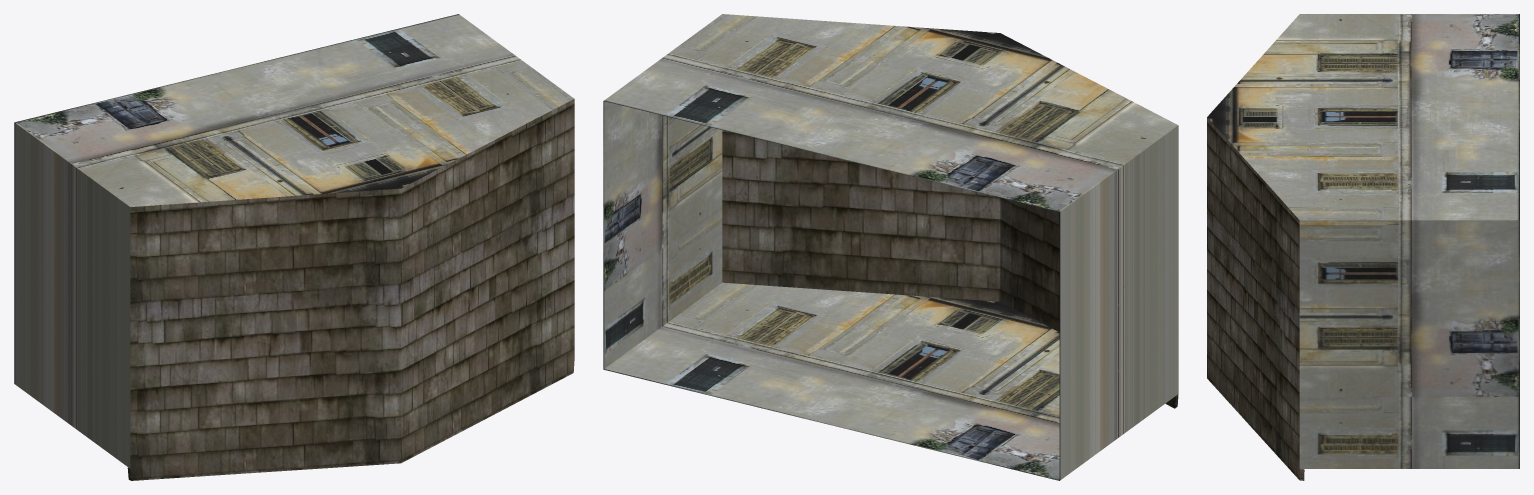
The model's file is houseduchamp02b_wtf.obj.
3 renders of one model, left to right at view 1: azimuth 30°, elevation 25°; view 2: azimuth 150°, elevation 25°; view 3: azimuth 270°, elevation 25°, orthographic. The views are drawn at different scales.
Visible parts, largest first — view 1: group2; view 2: group2; view 3: group2.
Boxes of the visible parts, x1=… form: group2: x1=14, y1=14, x2=574, y2=480; group2: x1=603, y1=14, x2=1178, y2=480; group2: x1=1207, y1=14, x2=1519, y2=480.
Size of the model in its own units: 660 by 391 by 423.
